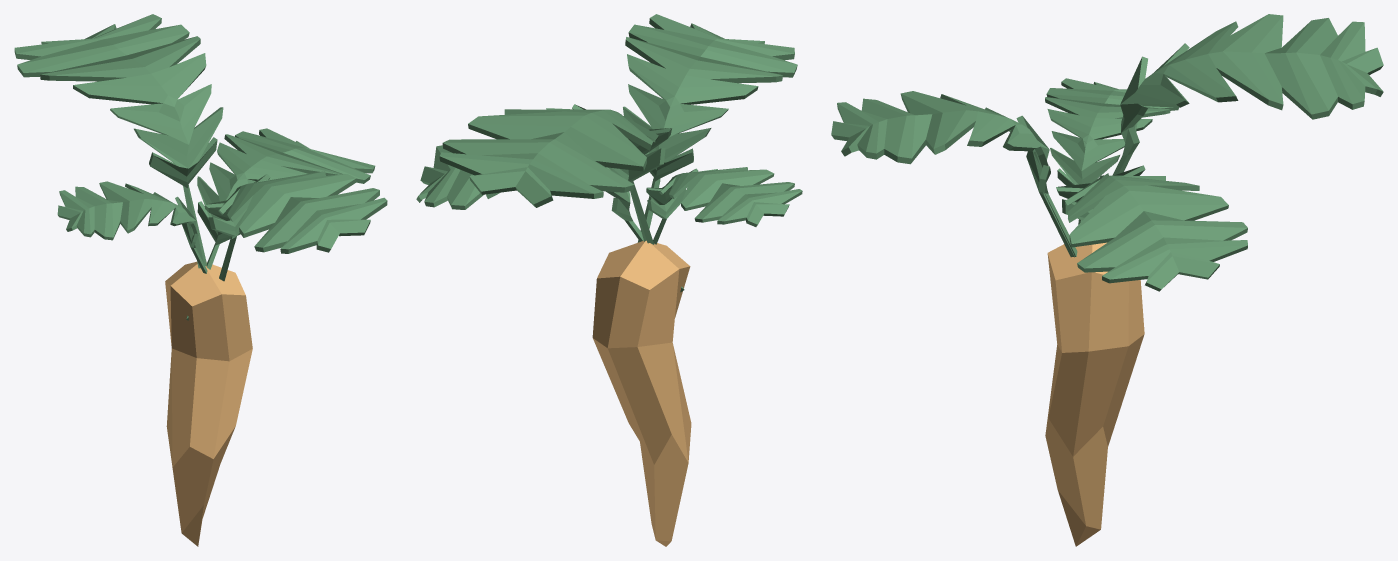
Rendered from Carrot.fbx.
3 renders of one model, left to right at view 1: azimuth 30°, elevation 25°; view 2: azimuth 150°, elevation 25°; view 3: azimuth 270°, elevation 25°, orthographic. The views are drawn at different scales.
Parts seen in each view (by area): view 1: leaf4, carrot, leaf3, leaf1, leaf2; view 2: carrot, leaf4, leaf3, leaf2, leaf1; view 3: carrot, leaf4, leaf1, leaf3, leaf2.
Part boxes in pixels (<box>): leaf4: <box>14,14,223,268</box>; carrot: <box>165,261,252,546</box>; leaf3: <box>204,171,387,281</box>; leaf1: <box>186,128,375,320</box>; leaf2: <box>57,181,207,273</box>; carrot: <box>592,240,691,546</box>; leaf4: <box>439,104,671,244</box>; leaf3: <box>623,14,797,242</box>; leaf2: <box>646,167,802,244</box>; leaf1: <box>416,145,684,292</box>; carrot: <box>1045,242,1144,546</box>; leaf4: <box>1112,14,1383,175</box>; leaf1: <box>1056,165,1247,291</box>; leaf3: <box>831,91,1077,257</box>; leaf2: <box>1045,78,1178,224</box>.
Bounding box in the file's own units: 501 × 664 × 664.
